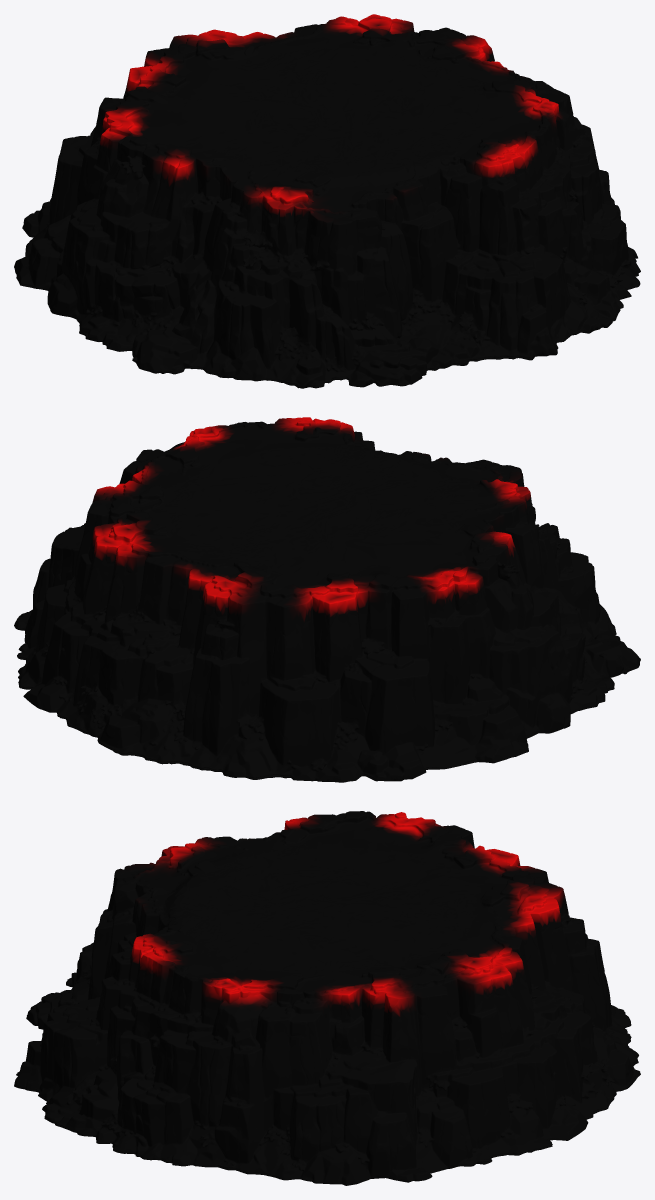
The model's file is Mountain_Plateau_01_SurfaceMask.fbx.
The picture shows the model from 3 angles, top to bottom: view 1: azimuth 30°, elevation 25°; view 2: azimuth 150°, elevation 25°; view 3: azimuth 270°, elevation 25°; orthographic projection.
Visible parts, largest first — view 1: Mountain_Work_220x; view 2: Mountain_Work_220x; view 3: Mountain_Work_220x.
Boxes of the visible parts, box(x1,y1,x2,y2) form: Mountain_Work_220x: box(14, 14, 640, 388); Mountain_Work_220x: box(14, 417, 640, 782); Mountain_Work_220x: box(14, 811, 640, 1185).
Size of the model in its own units: 215 by 58.61 by 216.
